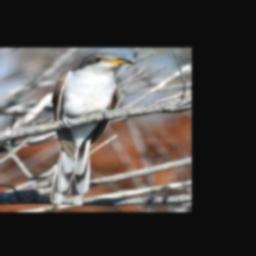Cuckoo: (51, 53, 133, 204)
